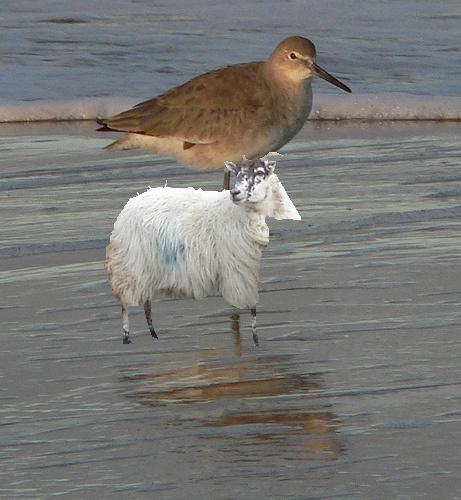tampered: (105, 153, 301, 346)
